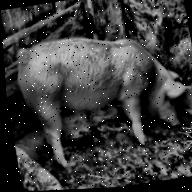boar: (10, 20, 192, 174)
